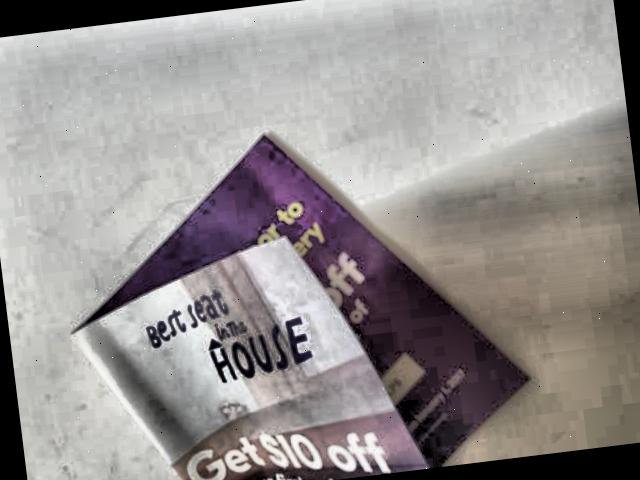Paper: (0, 52, 640, 480)
